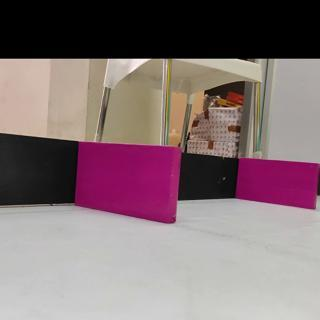xparking: (82, 147, 177, 218), (237, 163, 317, 204)
